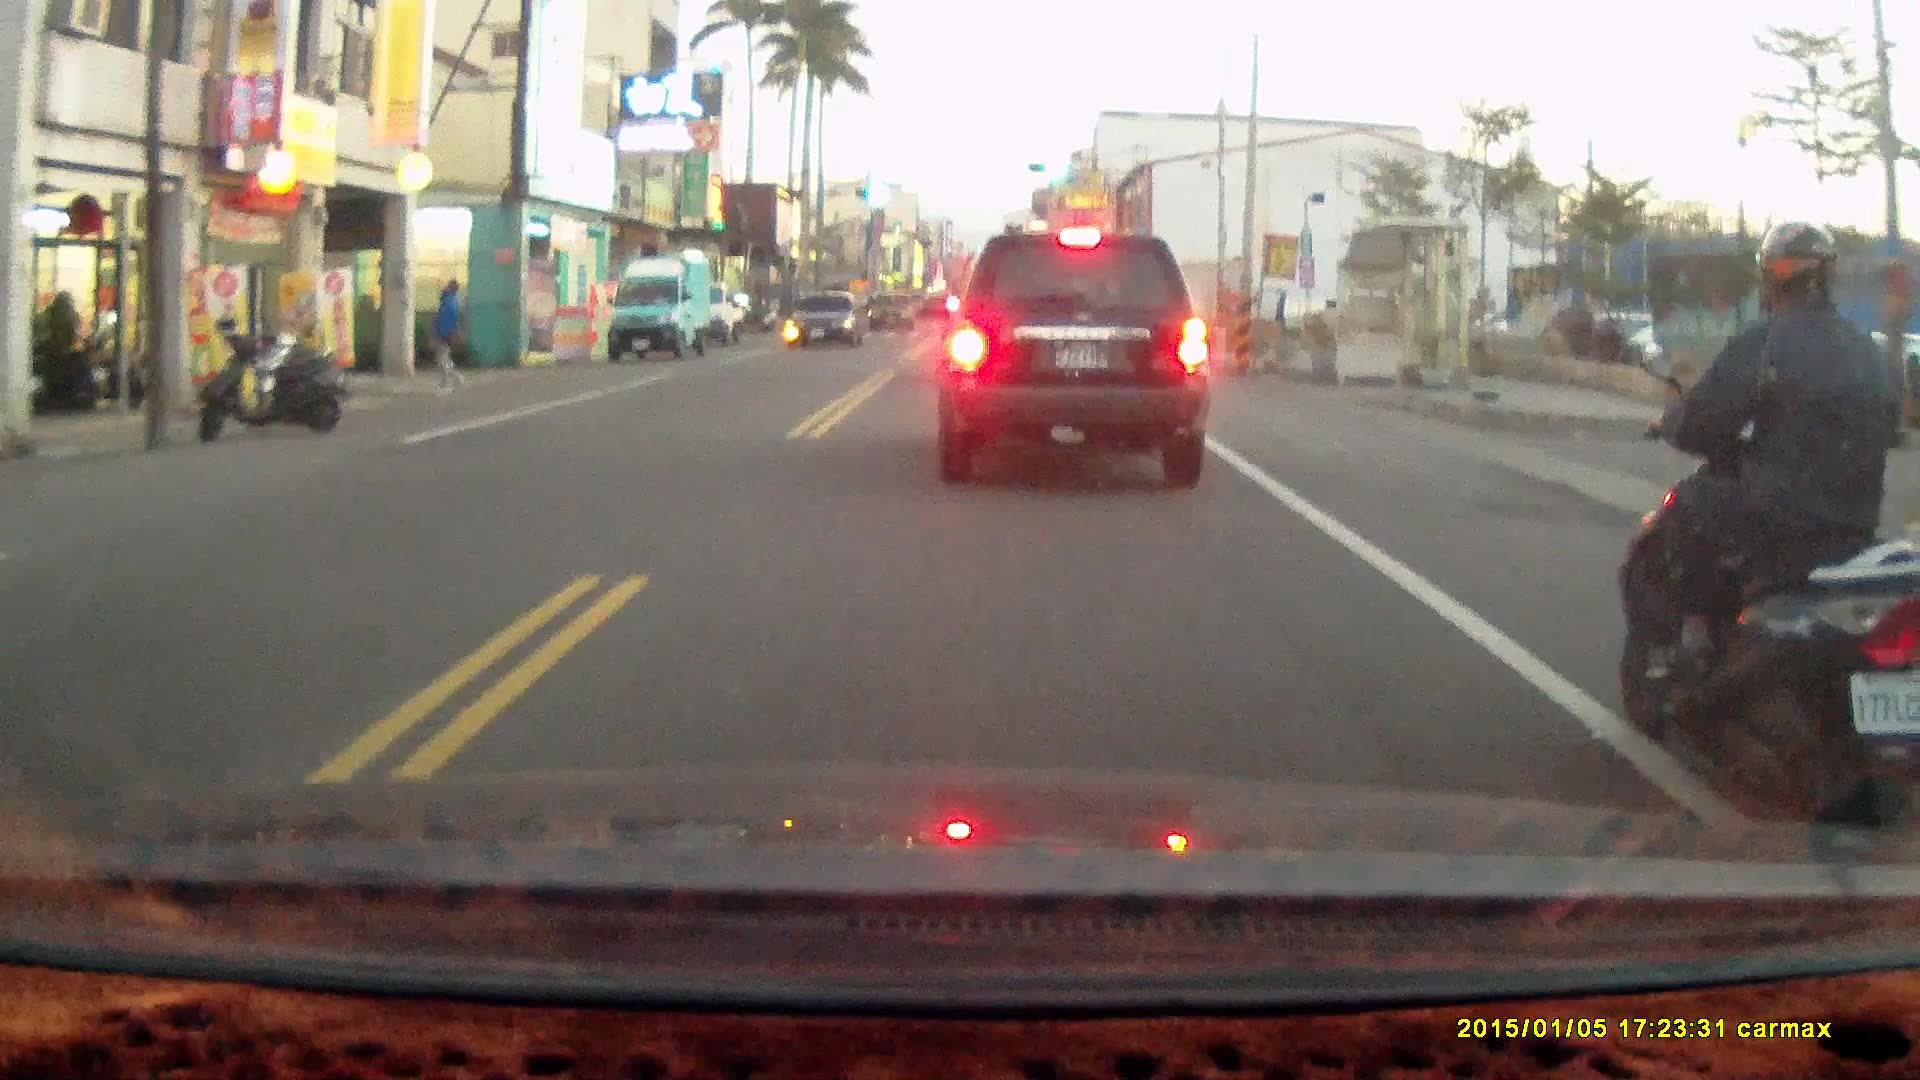pedestrian: (432, 277, 466, 397)
rider: (1618, 216, 1920, 842)
vehicle: (932, 228, 1215, 482), (602, 251, 716, 365), (786, 292, 873, 350), (867, 291, 918, 333)
